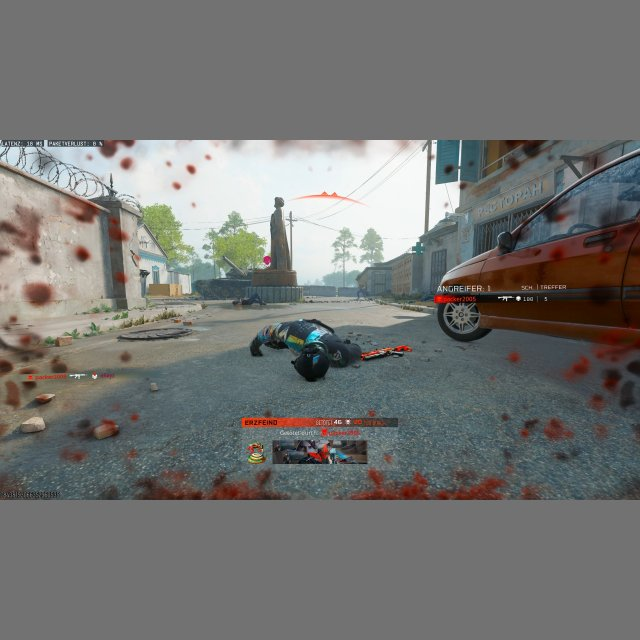head: (296, 345, 329, 381)
player: (356, 281, 367, 301)
